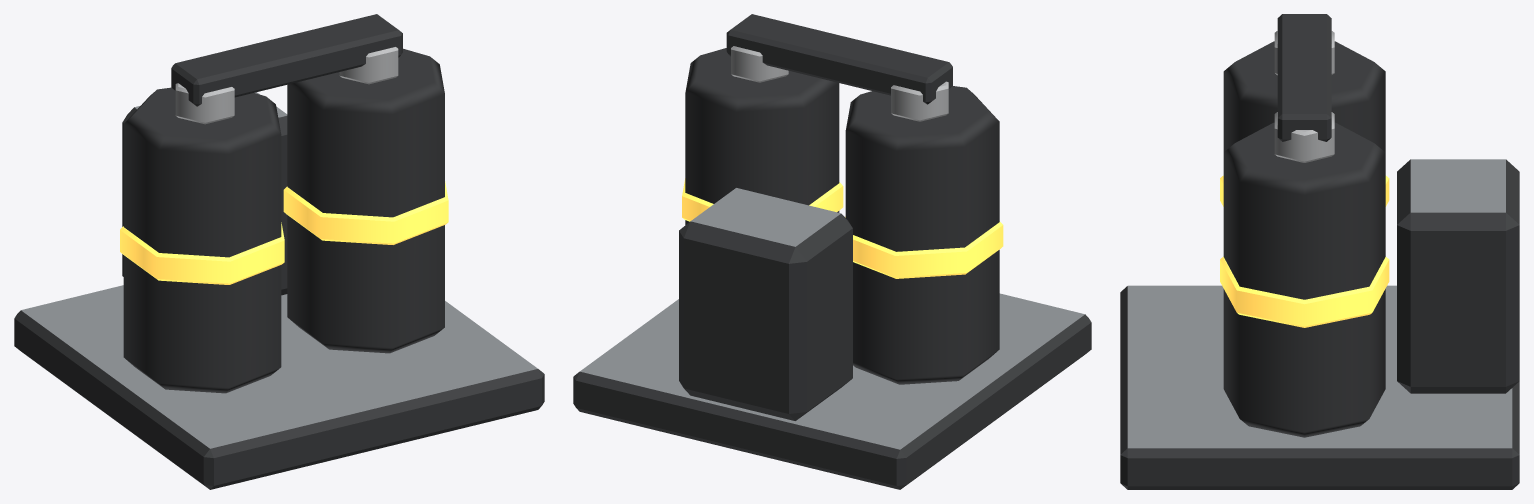
File: R4X_Battery_LOD1.fbx
The picture shows the model from 3 angles, left to right: view 1: azimuth 30°, elevation 25°; view 2: azimuth 150°, elevation 25°; view 3: azimuth 270°, elevation 25°; orthographic projection. The views are drawn at different scales.
Parts seen in each view (by area): view 1: R4X_Battery_LOD1; view 2: R4X_Battery_LOD1; view 3: R4X_Battery_LOD1.
Boxes of the visible parts, x1=… form: R4X_Battery_LOD1: x1=14, y1=14, x2=544, y2=489; R4X_Battery_LOD1: x1=573, y1=14, x2=1091, y2=489; R4X_Battery_LOD1: x1=1120, y1=14, x2=1519, y2=489.
Bounding box in the file's own units: 0.52 × 0.495 × 0.52.
